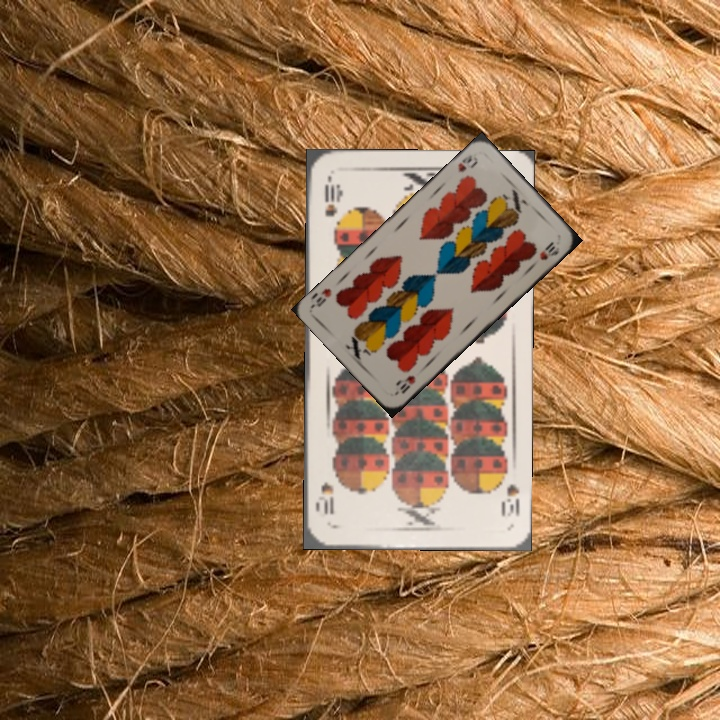H10: (453, 149, 480, 175), (396, 371, 418, 396)
S10: (497, 480, 522, 519), (321, 174, 340, 219)
